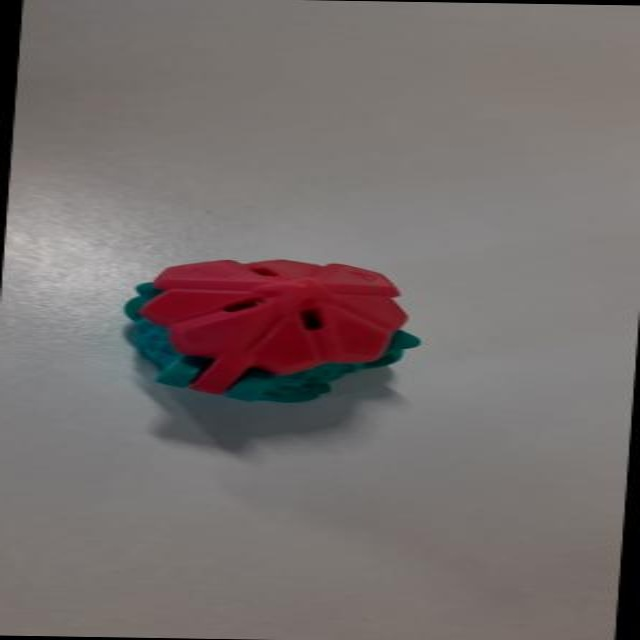House: (102, 244, 430, 414)
